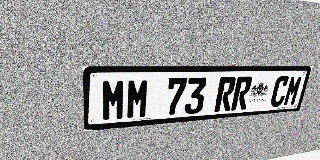3: (184, 77, 207, 115)
7: (164, 78, 188, 116)
C: (269, 76, 290, 107)
M: (101, 79, 126, 122), (126, 79, 150, 119), (282, 75, 304, 106)
R: (214, 77, 237, 112), (231, 76, 253, 111)
